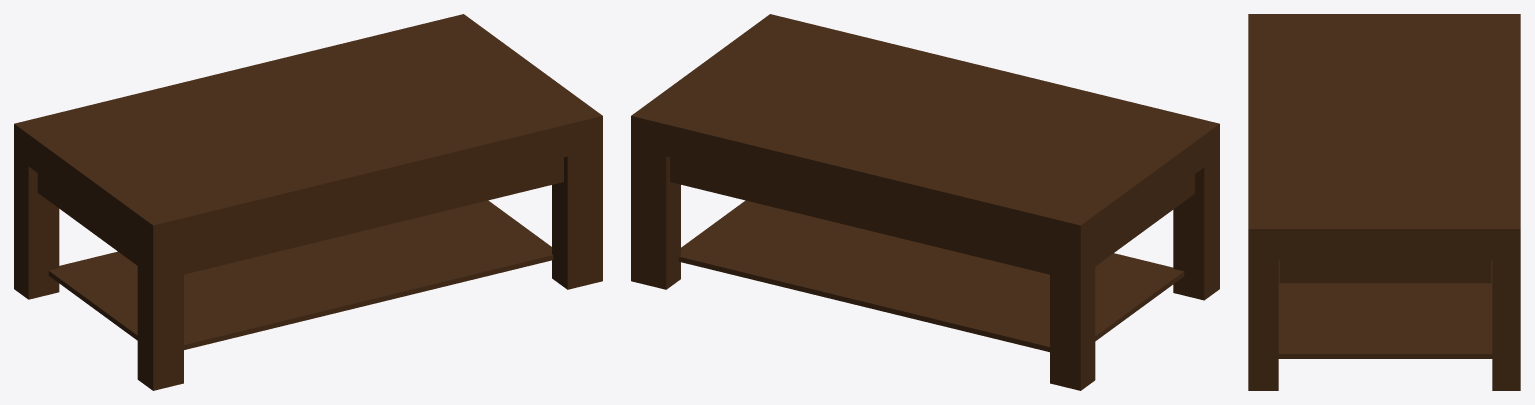
Rendered from CoffeeTable.FBX.
3 renders of one model, left to right at view 1: azimuth 30°, elevation 25°; view 2: azimuth 150°, elevation 25°; view 3: azimuth 270°, elevation 25°, orthographic. The views are drawn at different scales.
Parts seen in each view (by area): view 1: CoffeeTable; view 2: CoffeeTable; view 3: CoffeeTable.
Boxes of the visible parts, bbox=[...] form: CoffeeTable: bbox=[14, 14, 602, 390]; CoffeeTable: bbox=[631, 14, 1219, 390]; CoffeeTable: bbox=[1248, 14, 1520, 390].
Size of the model in its own units: 167 by 58.66 by 89.44.
